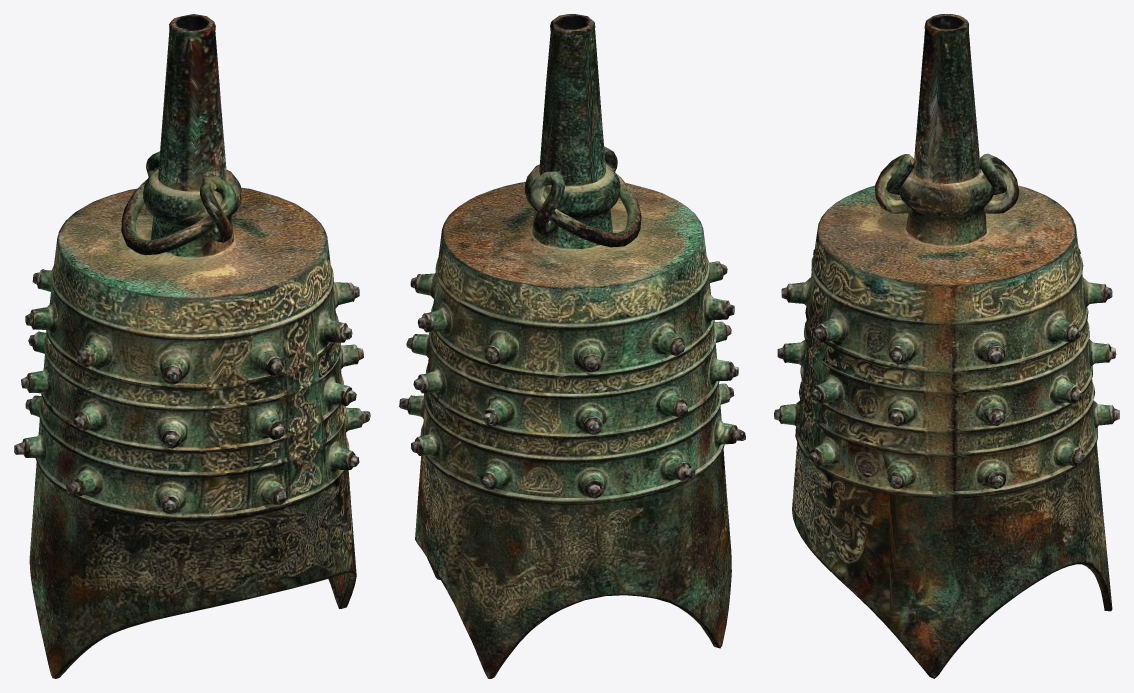
The model's file is yong.glb.
The picture shows the model from 3 angles, left to right: view 1: azimuth 30°, elevation 25°; view 2: azimuth 150°, elevation 25°; view 3: azimuth 270°, elevation 25°; orthographic projection. The views are drawn at different scales.
Parts seen in each view (by area): view 1: mesh; view 2: mesh; view 3: mesh.
Part boxes in pixels (box(x1,y1,x2,y2)): mesh: box(14, 14, 370, 678); mesh: box(399, 14, 745, 678); mesh: box(774, 14, 1119, 678).
Size of the model in its own units: 0.5133 by 1 by 0.5324.
Materials: 1 (1 with a texture image).
